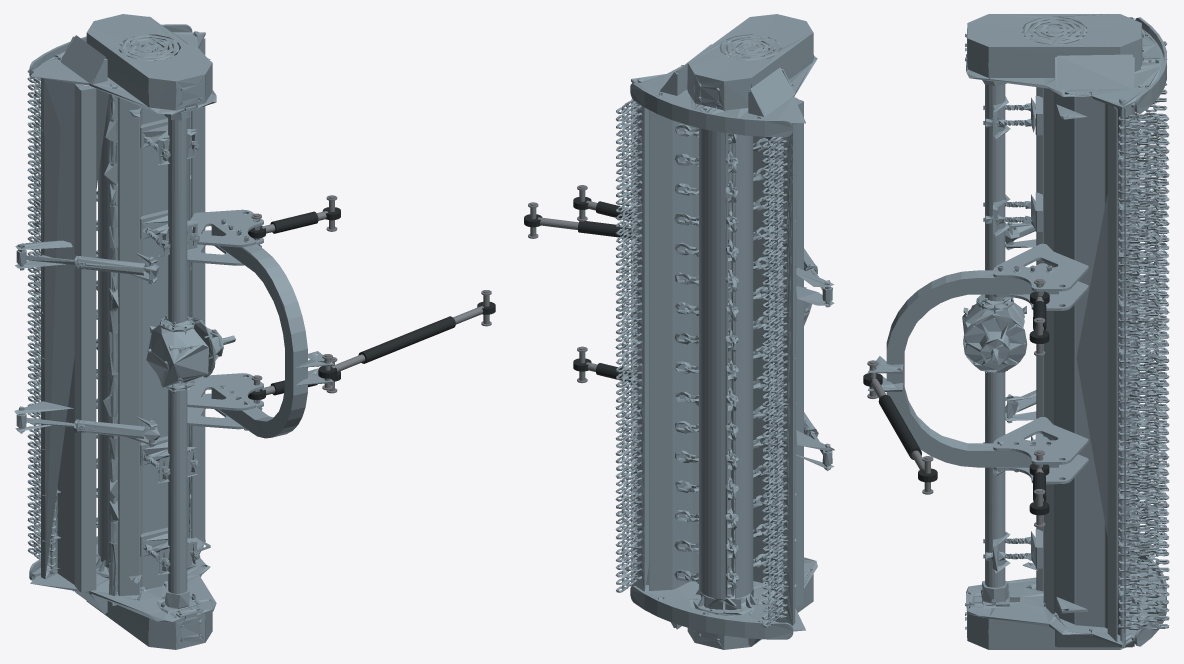
The model's file is implement_forest_chain_crusher_visual.obj.
3 renders of one model, left to right at view 1: azimuth 30°, elevation 25°; view 2: azimuth 150°, elevation 25°; view 3: azimuth 270°, elevation 25°, orthographic. The views are drawn at different scales.
Visible parts, largest first — view 1: solid_1104, solid_1116, solid_51, solid_49, solid_1168, solid_1170, solid_596, solid_203, solid_261, solid_86, solid_24, solid_135 (+13 smaller); view 2: solid_50, solid_558, solid_596, solid_1168, solid_1104, solid_49, solid_48, solid_1116, solid_132, solid_134, solid_0, solid_24 (+7 smaller); view 3: solid_49, solid_50, solid_1168, solid_48, solid_1170, solid_86, solid_261, solid_203, solid_24, solid_136, solid_18, solid_1169 (+15 smaller).
Boxes of the visible parts, x1,y1,x2,y2 form: solid_1104: [41, 78, 108, 579]; solid_1116: [74, 84, 96, 592]; solid_51: [118, 97, 140, 595]; solid_49: [117, 97, 188, 591]; solid_1168: [86, 14, 212, 107]; solid_1170: [211, 226, 307, 438]; solid_596: [98, 97, 110, 561]; solid_203: [168, 118, 187, 323]; solid_261: [168, 389, 187, 593]; solid_86: [191, 38, 205, 541]; solid_24: [30, 540, 216, 621]; solid_135: [146, 324, 208, 387]; solid_50: [649, 110, 692, 590]; solid_558: [699, 128, 725, 599]; solid_596: [735, 134, 753, 598]; solid_1168: [687, 14, 813, 108]; solid_1104: [775, 124, 796, 625]; solid_49: [693, 126, 775, 584]; solid_48: [631, 83, 648, 591]; solid_1116: [794, 98, 803, 607]; solid_132: [630, 83, 793, 137]; solid_134: [630, 585, 793, 639]; solid_0: [631, 49, 817, 123]; solid_24: [644, 557, 817, 631]; solid_49: [1043, 88, 1075, 624]; solid_50: [1075, 96, 1120, 635]; solid_1168: [967, 14, 1142, 75]; solid_48: [1076, 108, 1125, 643]; solid_1170: [886, 270, 1058, 467]; solid_86: [1107, 104, 1117, 642]; solid_261: [985, 372, 1005, 587]; solid_203: [985, 84, 1005, 301]; solid_24: [966, 577, 1142, 647]; solid_136: [963, 314, 1027, 372]; solid_18: [1057, 54, 1132, 88]; solid_1169: [967, 614, 1134, 649].
Size of the model in its own units: 2.06 by 2.85 by 1.31.
